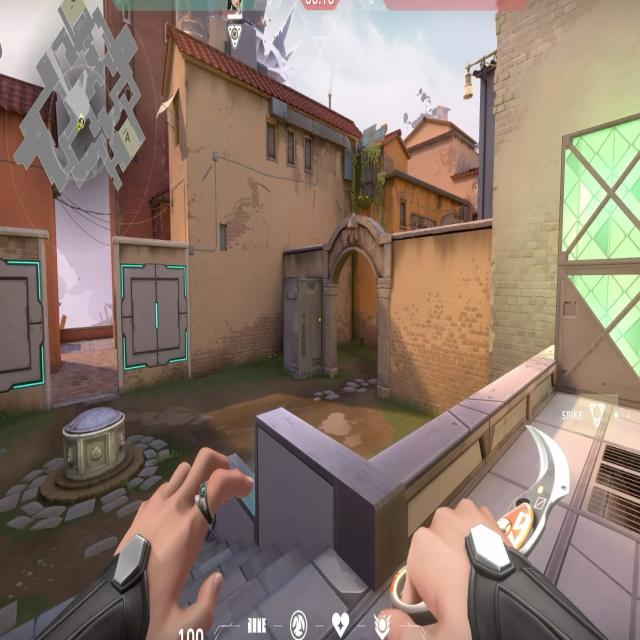Mid_Wall: (120, 262, 189, 372), (0, 260, 46, 394)
